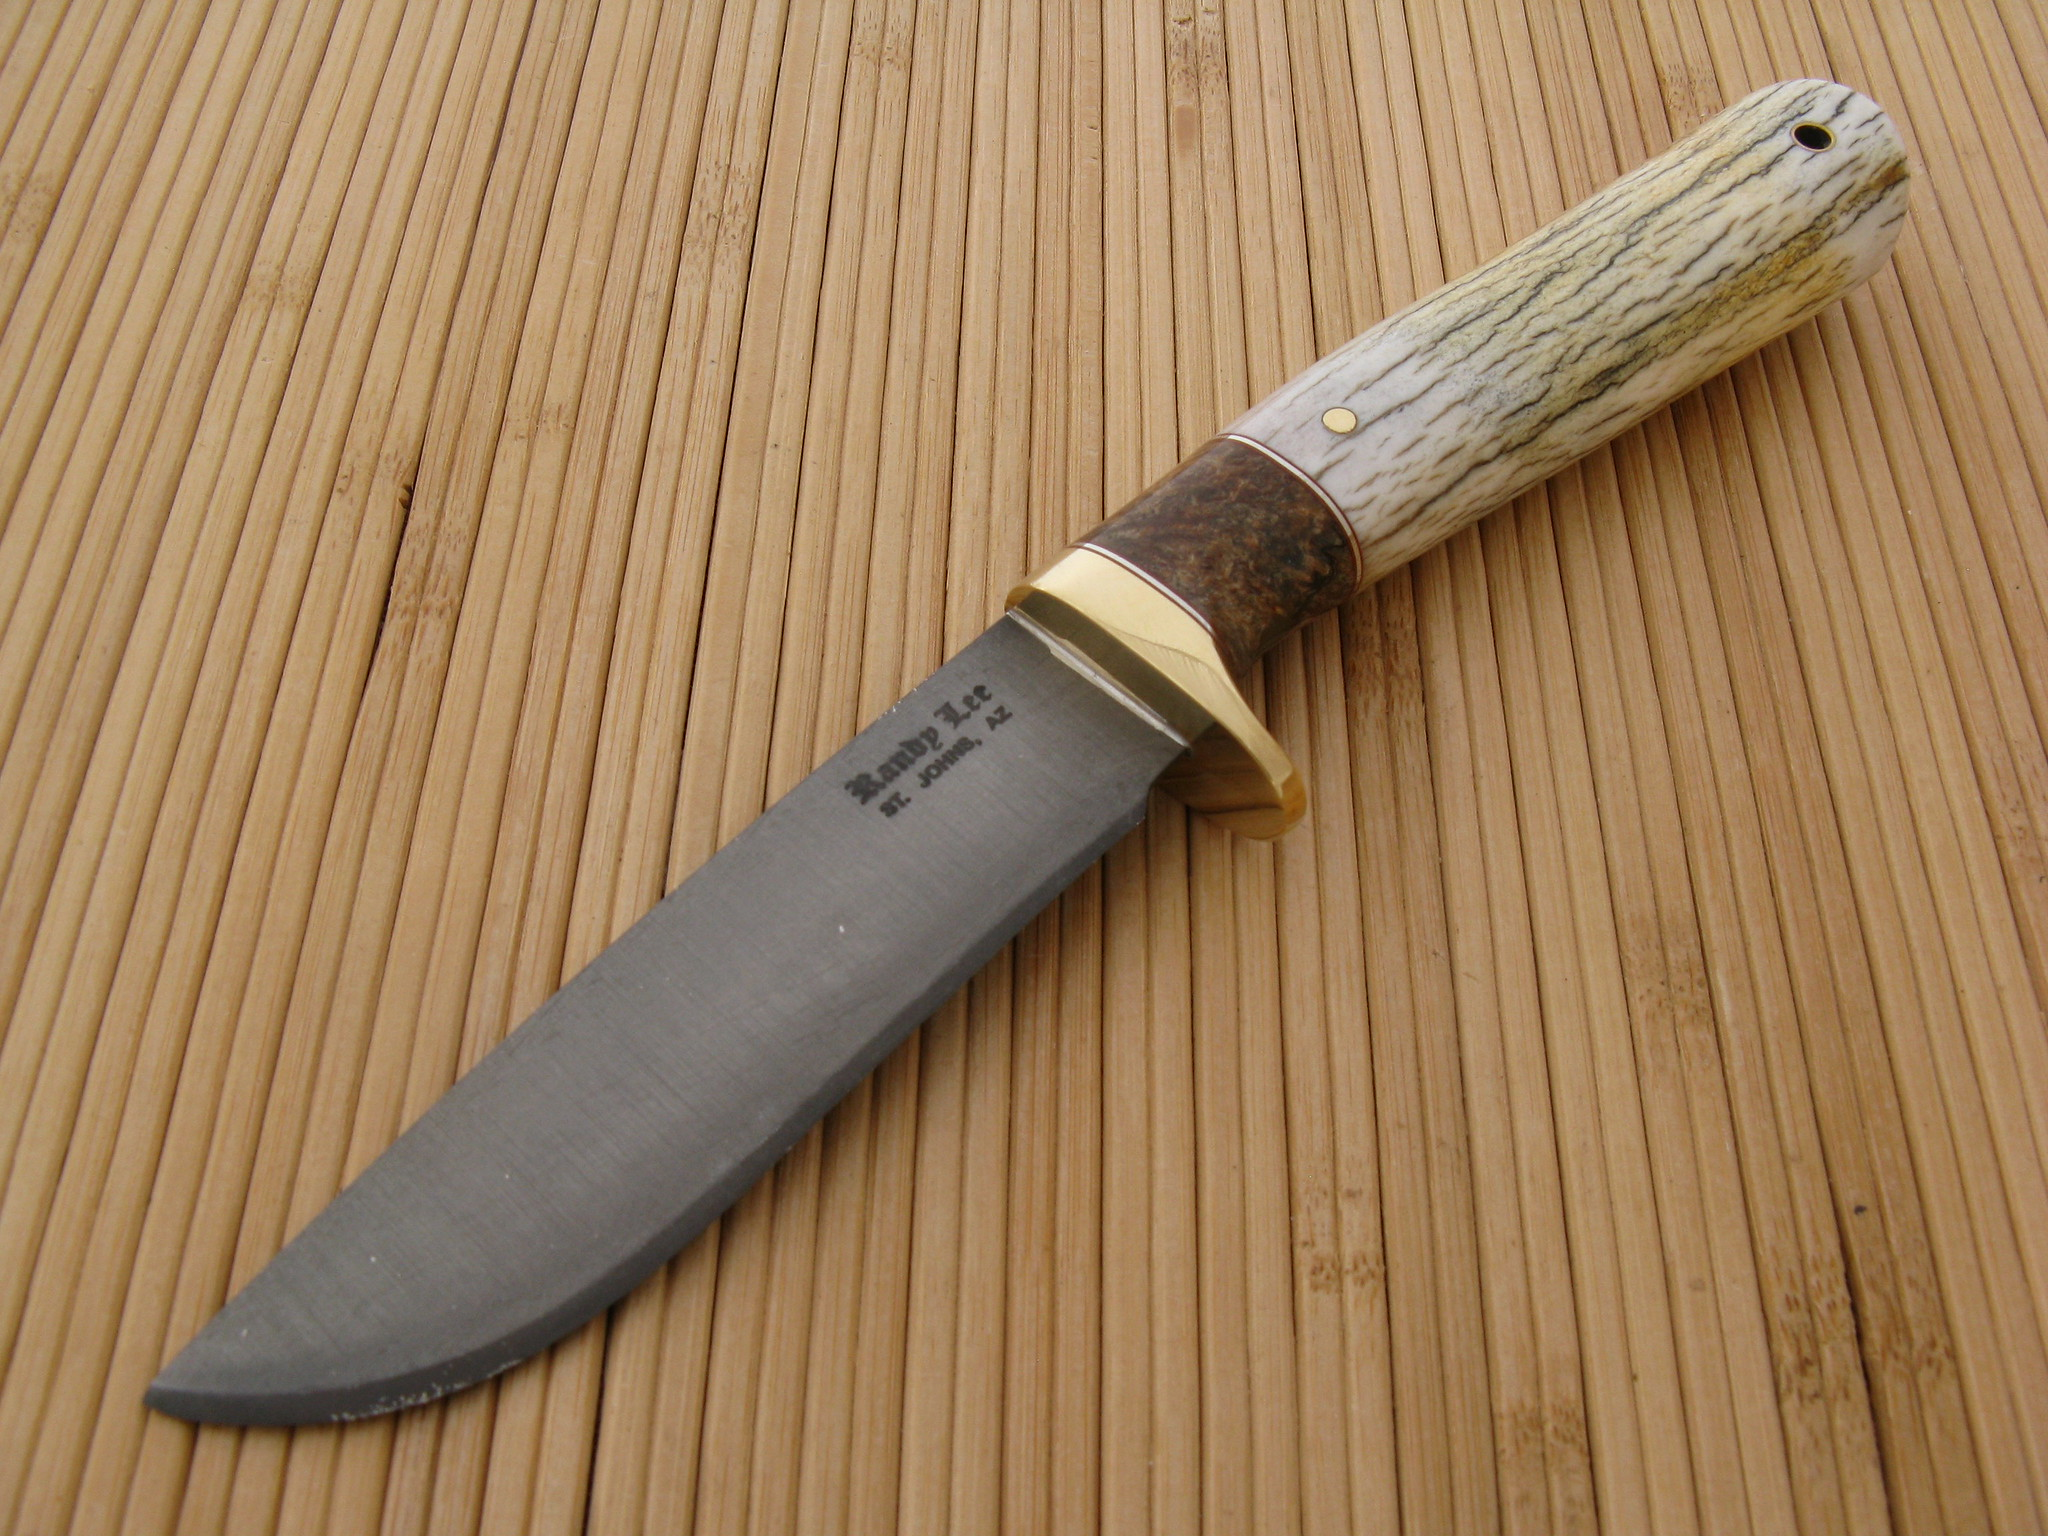knife: (110, 77, 1922, 1436)
